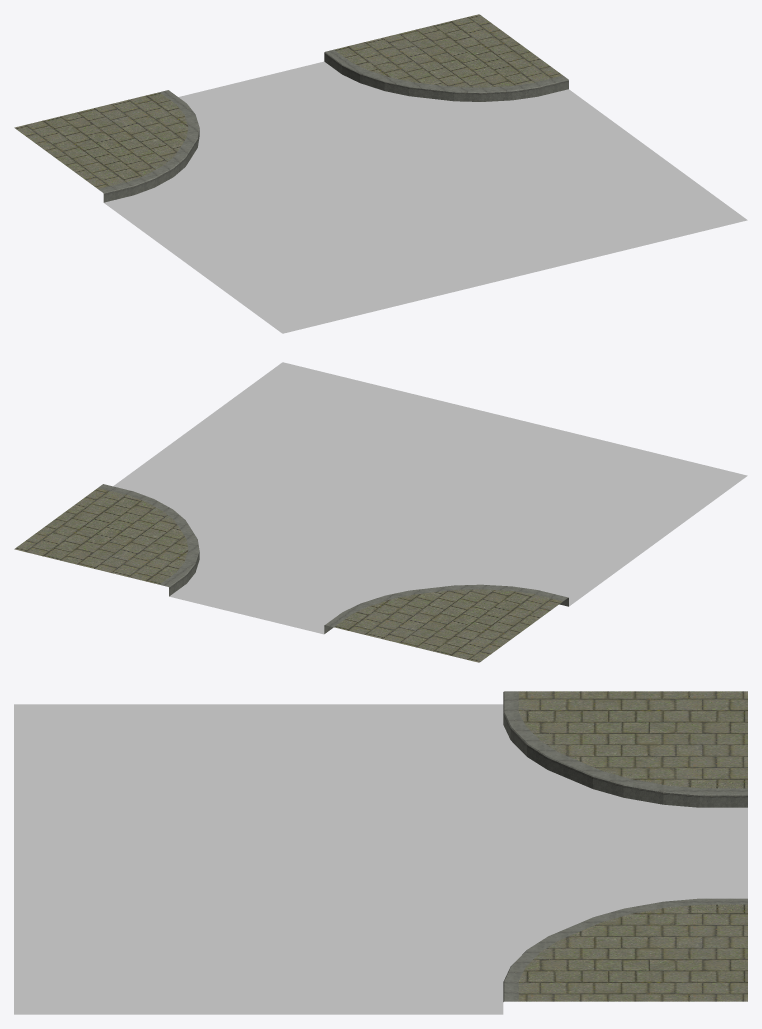
The model's file is CT_Road_Lane_Entry_01.fbx.
The picture shows the model from 3 angles, top to bottom: view 1: azimuth 30°, elevation 25°; view 2: azimuth 150°, elevation 25°; view 3: azimuth 270°, elevation 25°; orthographic projection. The views are drawn at different scales.
Visible parts, largest first — view 1: CT_Road_Lane_Entry_01; view 2: CT_Road_Lane_Entry_01; view 3: CT_Road_Lane_Entry_01.
Part boxes in pixels (x1,y1,x2,y2): CT_Road_Lane_Entry_01: [14, 14, 747, 333]; CT_Road_Lane_Entry_01: [14, 362, 747, 662]; CT_Road_Lane_Entry_01: [14, 691, 747, 1014].
Size of the model in its own units: 768 by 15 by 768.
